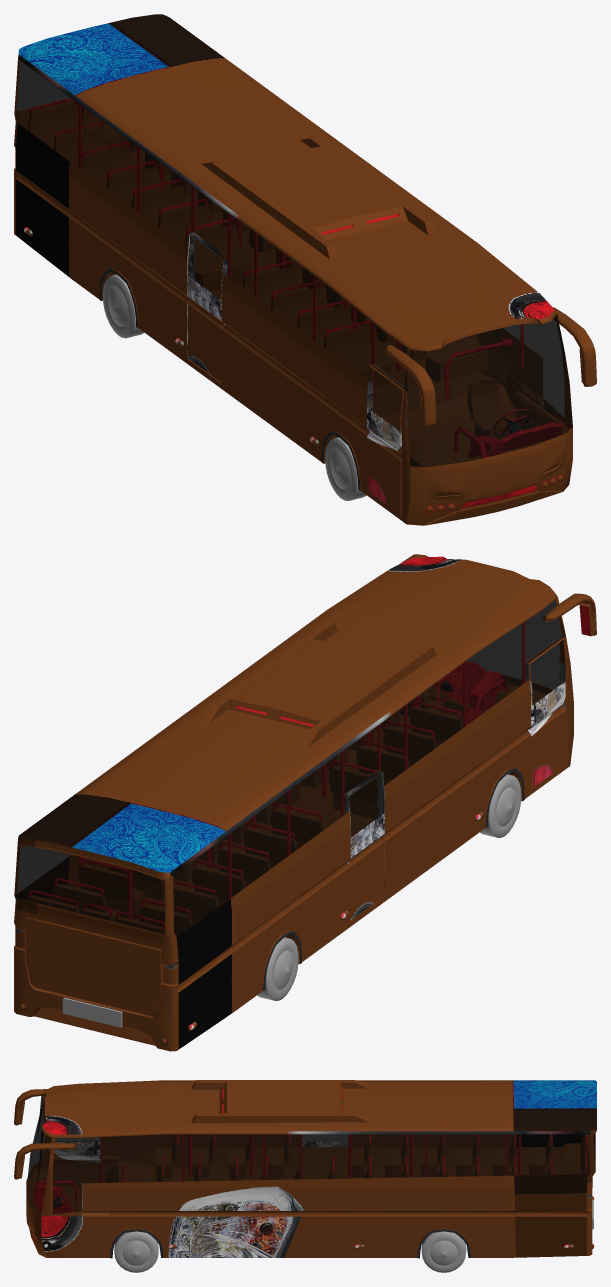
Rendered from Bus_06.fbx.
3 renders of one model, top to bottom at view 1: azimuth 30°, elevation 25°; view 2: azimuth 150°, elevation 25°; view 3: azimuth 270°, elevation 25°, orthographic. The views are drawn at different scales.
Visible parts, largest first — view 1: Bus_6_Body, Bus_6_Glass, Bus_6_Door, RR, FR, Glass; view 2: Bus_6_Body, Bus_6_Glass, Bus_6_Door, FR, RR, Glass, NumberPlate; view 3: Bus_6_Body, Bus_6_Glass, Bus_6_Door, RL, FL.
Part boxes in pixels (bbox=[...]): Bus_6_Body: bbox=[14, 14, 596, 525]; Bus_6_Glass: bbox=[16, 60, 572, 466]; Bus_6_Door: bbox=[367, 364, 404, 515]; RR: bbox=[103, 274, 144, 338]; FR: bbox=[325, 437, 366, 500]; Glass: bbox=[367, 367, 402, 430]; Bus_6_Body: bbox=[14, 554, 596, 1051]; Bus_6_Glass: bbox=[16, 599, 565, 936]; Bus_6_Door: bbox=[526, 637, 565, 789]; FR: bbox=[480, 774, 521, 837]; RR: bbox=[257, 937, 298, 1000]; Glass: bbox=[530, 640, 565, 705]; NumberPlate: bbox=[62, 997, 122, 1027]; Bus_6_Body: bbox=[14, 1080, 596, 1258]; Bus_6_Glass: bbox=[27, 1095, 595, 1215]; Bus_6_Door: bbox=[53, 1137, 100, 1186]; RL: bbox=[421, 1231, 466, 1272]; FL: bbox=[114, 1231, 158, 1272].
Size of the model in its own units: 258 by 303 by 1075.
